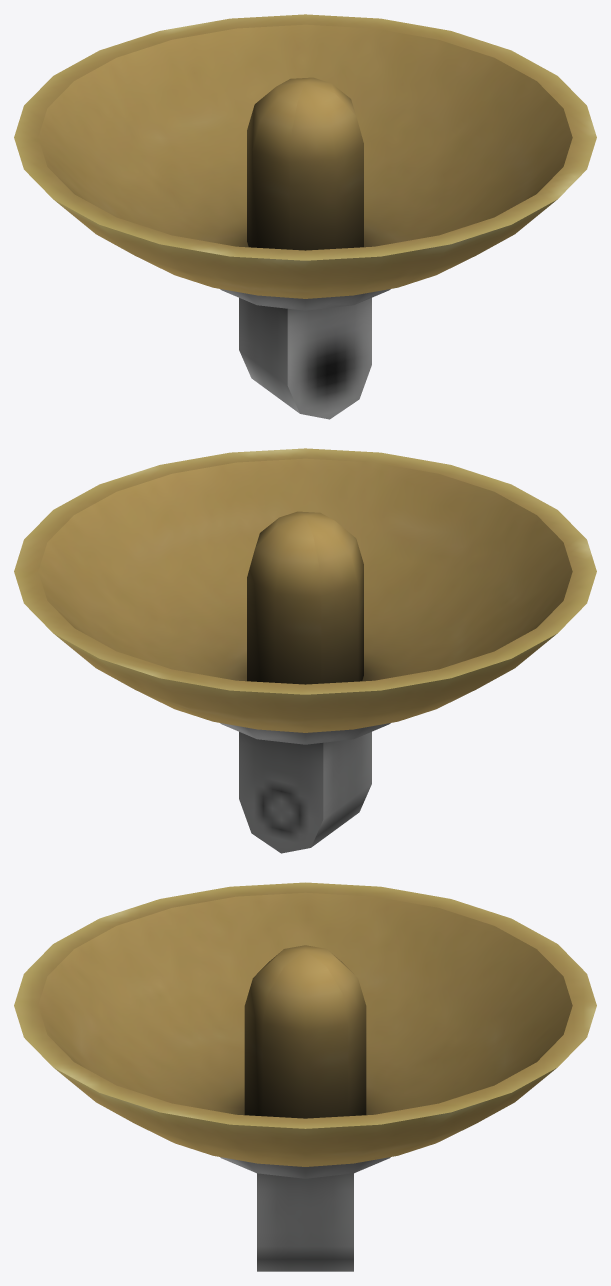
Rendered from atria_antenna_1_1.obj.
3 views of the same model, one above another, from view 1: azimuth 30°, elevation 25°; view 2: azimuth 150°, elevation 25°; view 3: azimuth 270°, elevation 25° (orthographic).
Parts seen in each view (by area): view 1: atria_antenna_1_1; view 2: atria_antenna_1_1; view 3: atria_antenna_1_1.
Part boxes in pixels (x1,y1,x2,y2): atria_antenna_1_1: (14, 14, 596, 419); atria_antenna_1_1: (14, 448, 596, 853); atria_antenna_1_1: (14, 882, 596, 1271).
Bounding box in the file's own units: 0.3 × 0.1813 × 0.3.
1 material, 1 textured.
